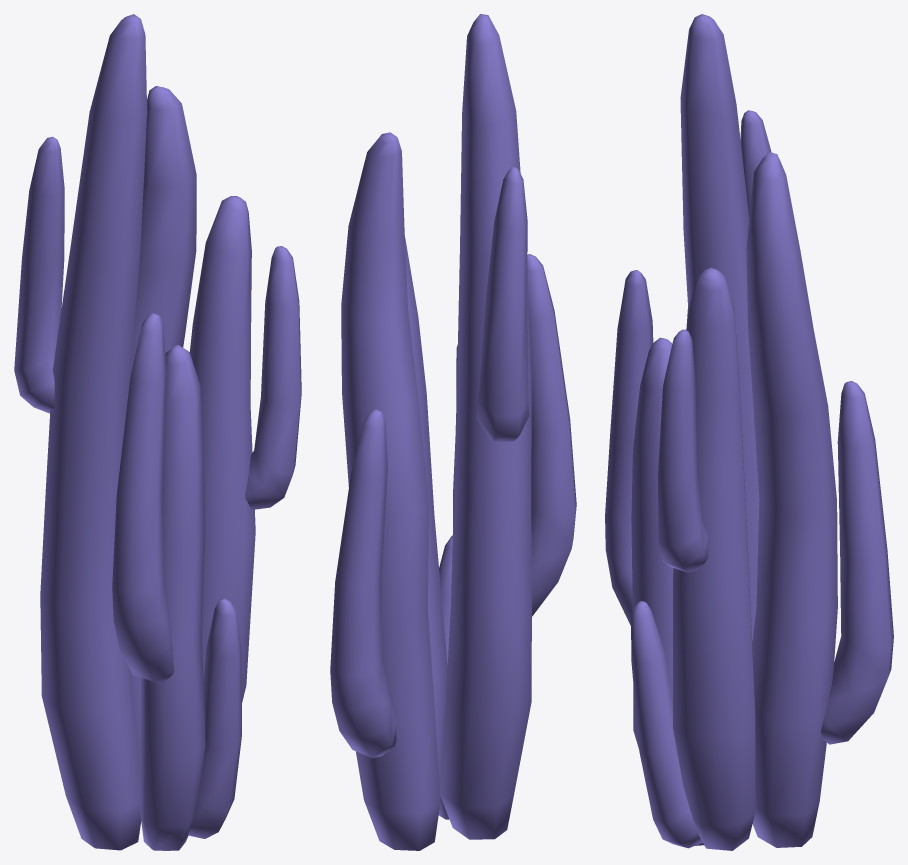
Rendered from Cactus_Tall_04.fbx.
The picture shows the model from 3 angles, left to right: view 1: azimuth 30°, elevation 25°; view 2: azimuth 150°, elevation 25°; view 3: azimuth 270°, elevation 25°; orthographic projection. The views are drawn at different scales.
Parts seen in each view (by area): view 1: Cactus_Tall_04; view 2: Cactus_Tall_04; view 3: Cactus_Tall_04.
Boxes of the visible parts, bbox=[...] form: Cactus_Tall_04: bbox=[14, 14, 301, 850]; Cactus_Tall_04: bbox=[330, 14, 576, 850]; Cactus_Tall_04: bbox=[605, 14, 893, 850].
Bounding box in the file's own units: 112 × 386 × 124.
